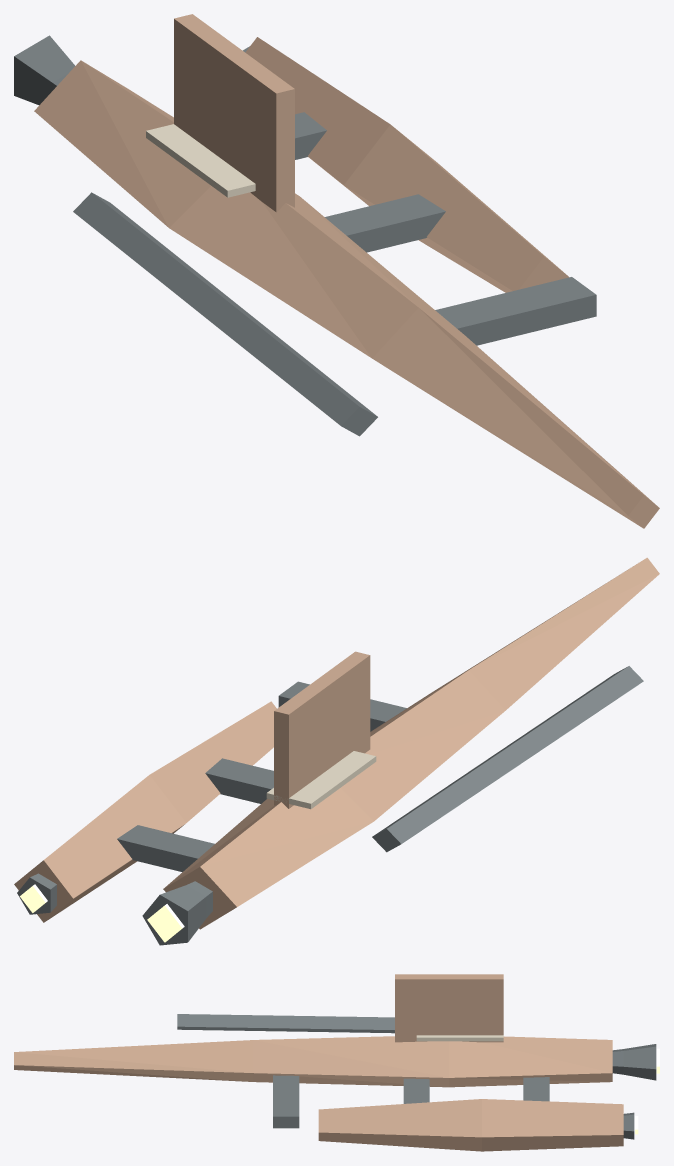
The picture shows the model from 3 angles, top to bottom: view 1: azimuth 30°, elevation 25°; view 2: azimuth 150°, elevation 25°; view 3: azimuth 270°, elevation 25°; orthographic projection. The views are drawn at different scales.
Size of the model in its own units: 6.39 by 3.79 by 17.57.
